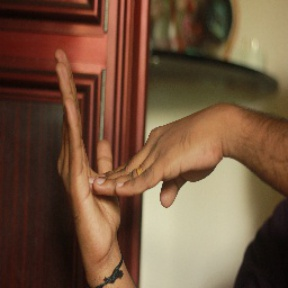Z: (43, 45, 227, 261)
